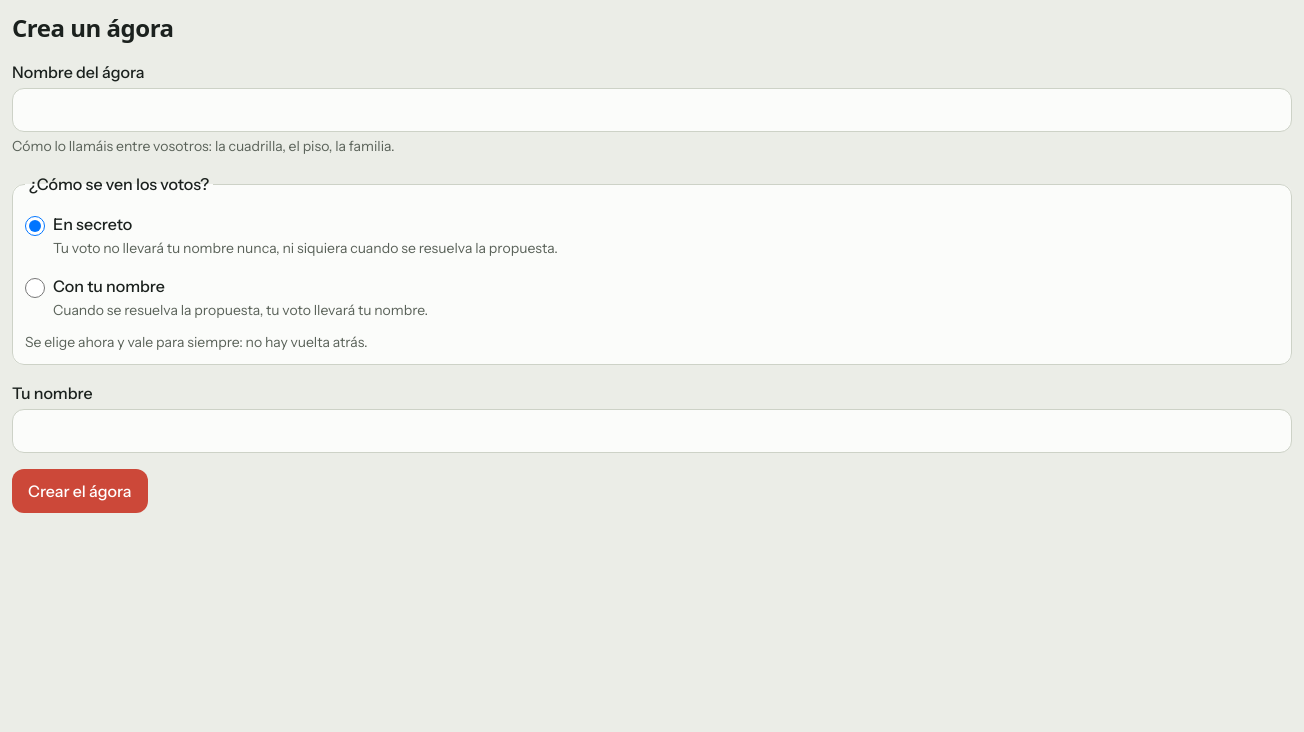
CreateAgoraForm › selects an option when its hint text is clicked, not just its radio dot
Expected: the radio button labelled "Con tu nombre" is not checked, [25,278,45,298]
What coordinates should you click on to do the following:
click the text "Cuando se resuelva la propuesta, tu voto llevará tu nombre."
I would click on:
 (240, 310)
Its box is [53,301,428,319].
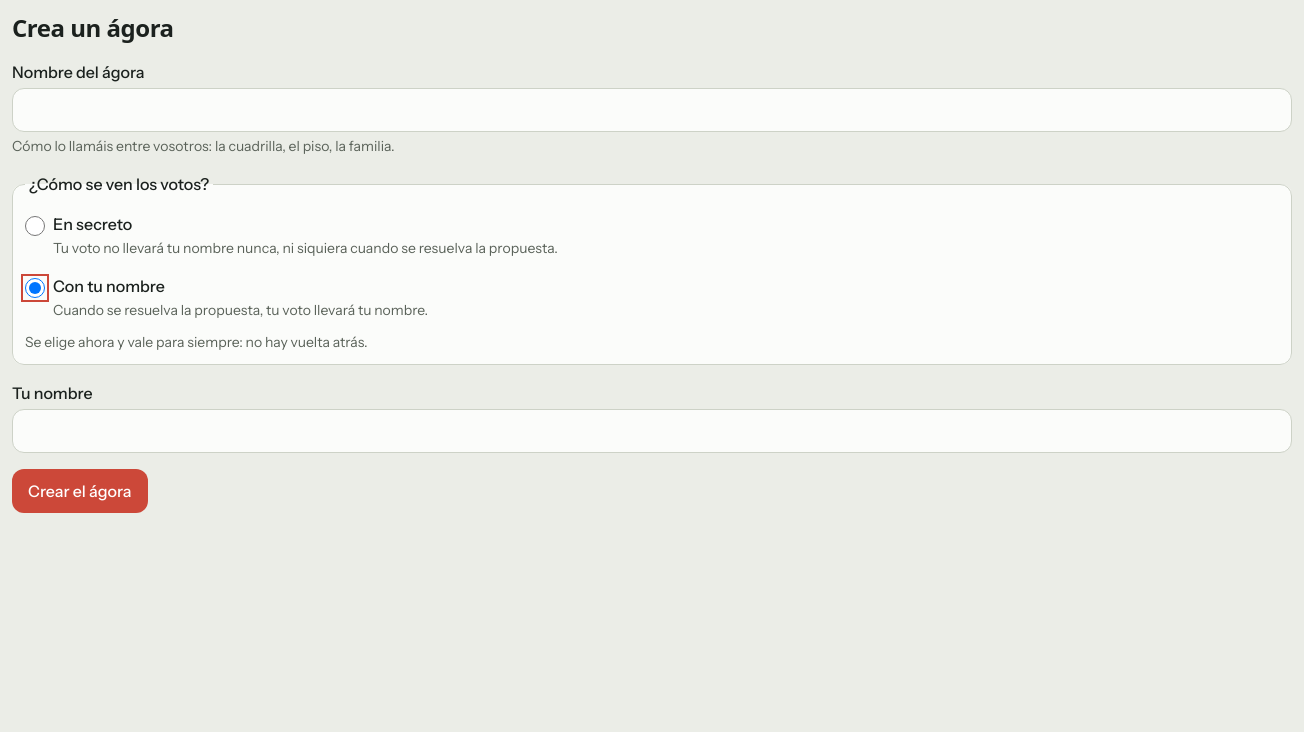
Result: the radio button labelled "Con tu nombre" is checked at [25,278,45,298]
